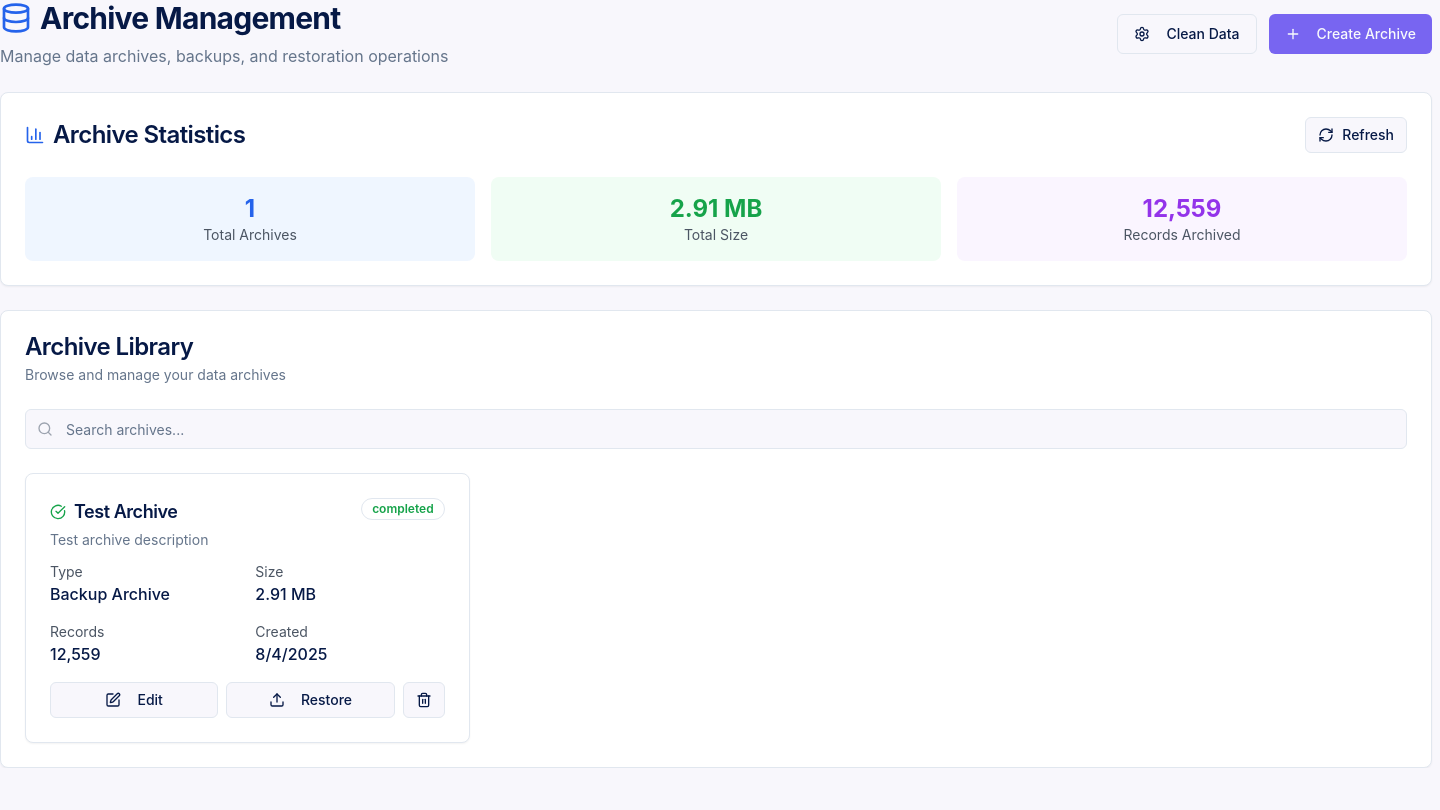
Test: Archive Management Components › Restore Archive Dialog › should show warning for replace existing data
Click the button "Restore": (310, 700) [226,682,395,718]
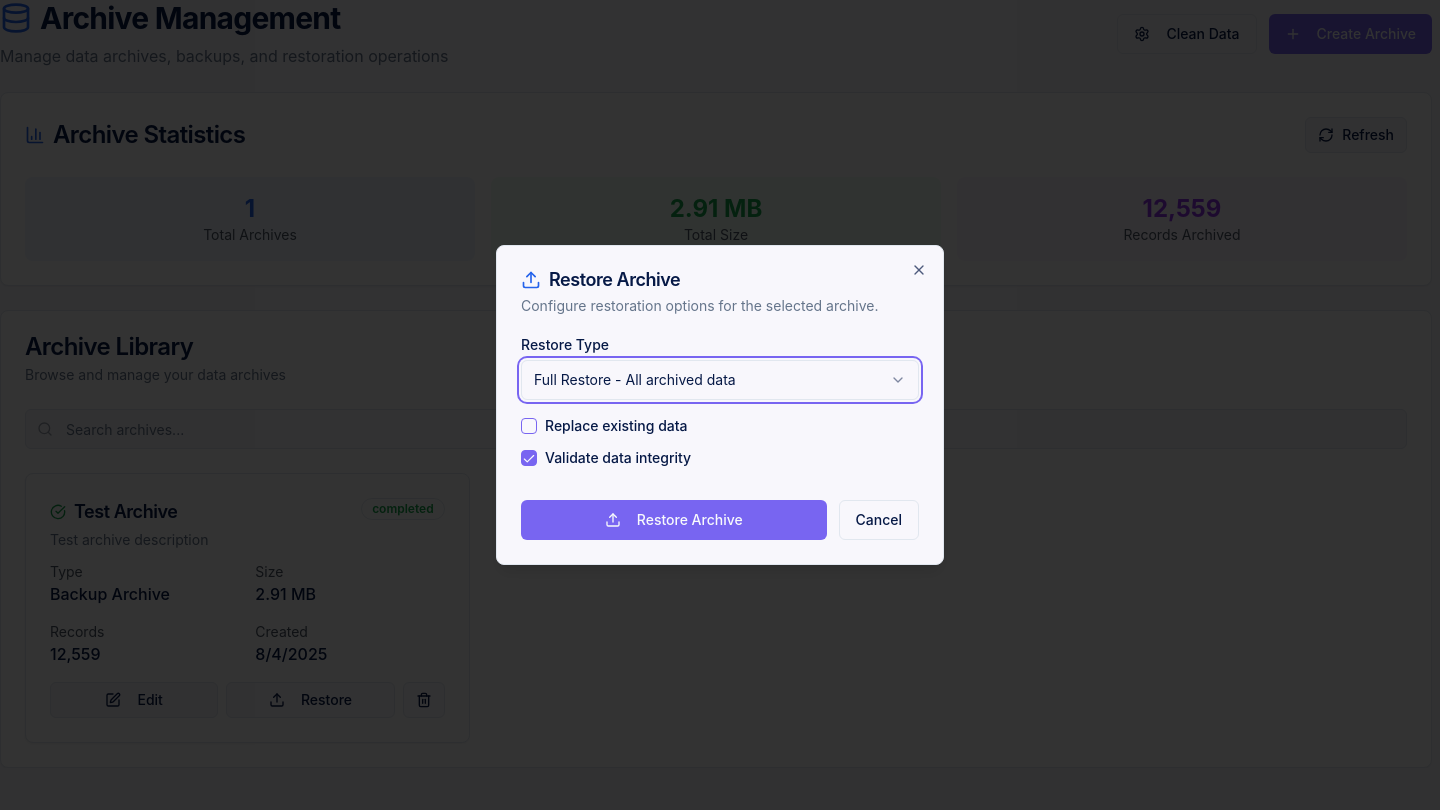
Click the checkbox named "Replace existing data" next to "Replace existing data": (529, 426) [521,418,537,434]
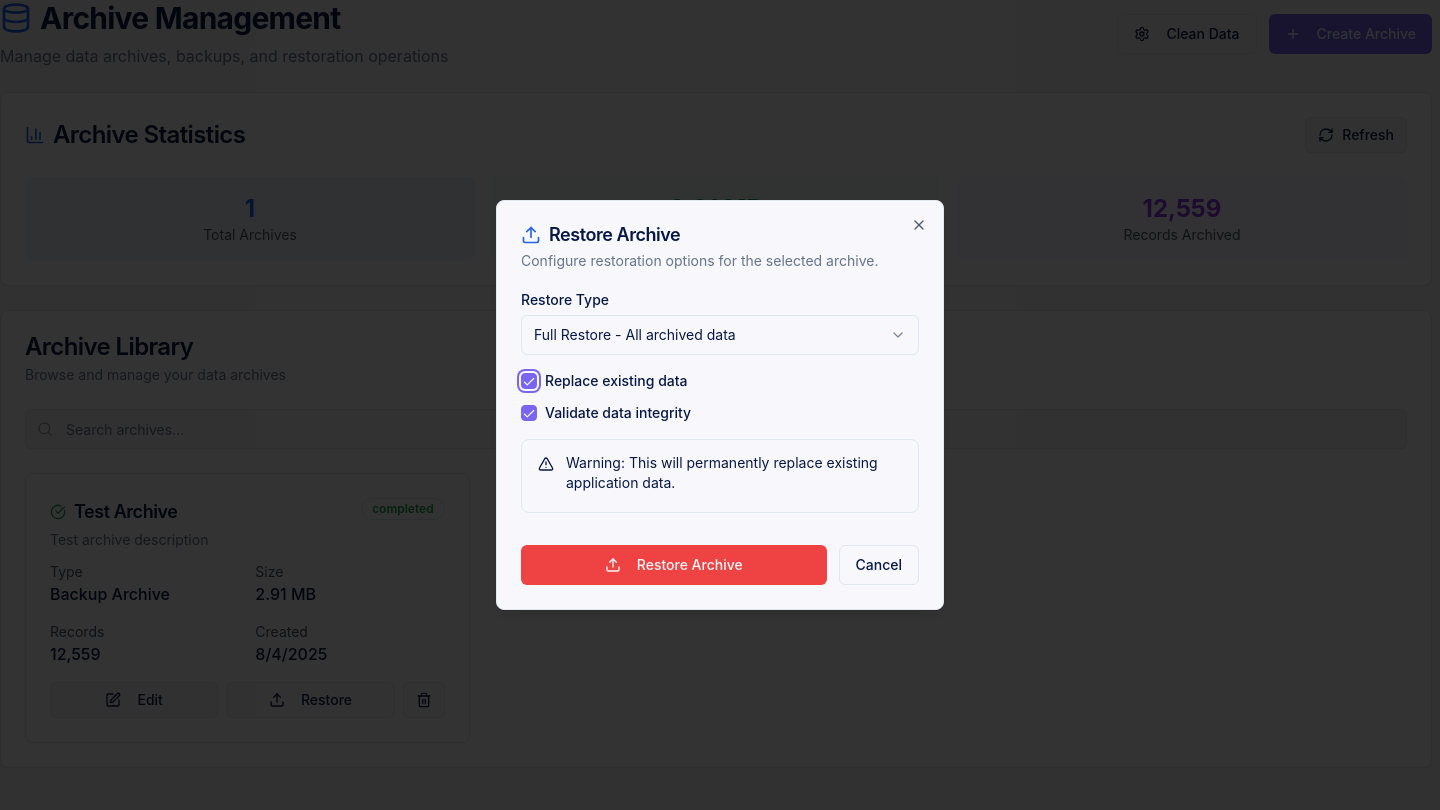
Result: the text "Warning: This will permanently replace existing application data." is shown at [538,453,902,493]
